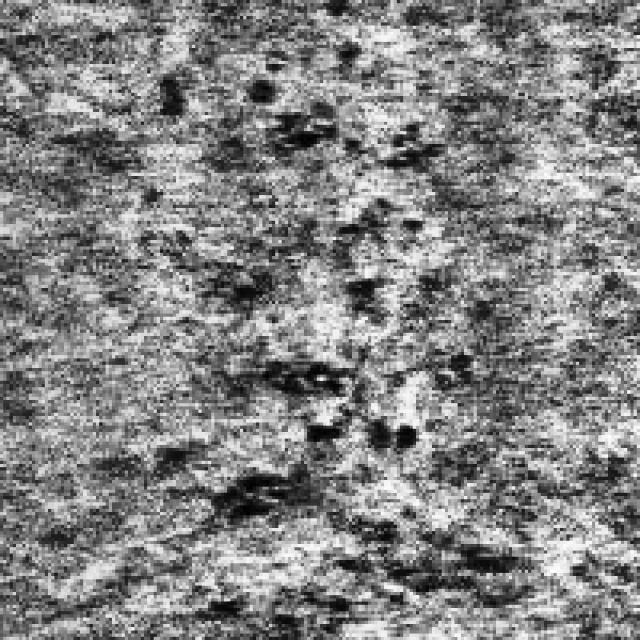Crazing: (182, 73, 442, 516)
